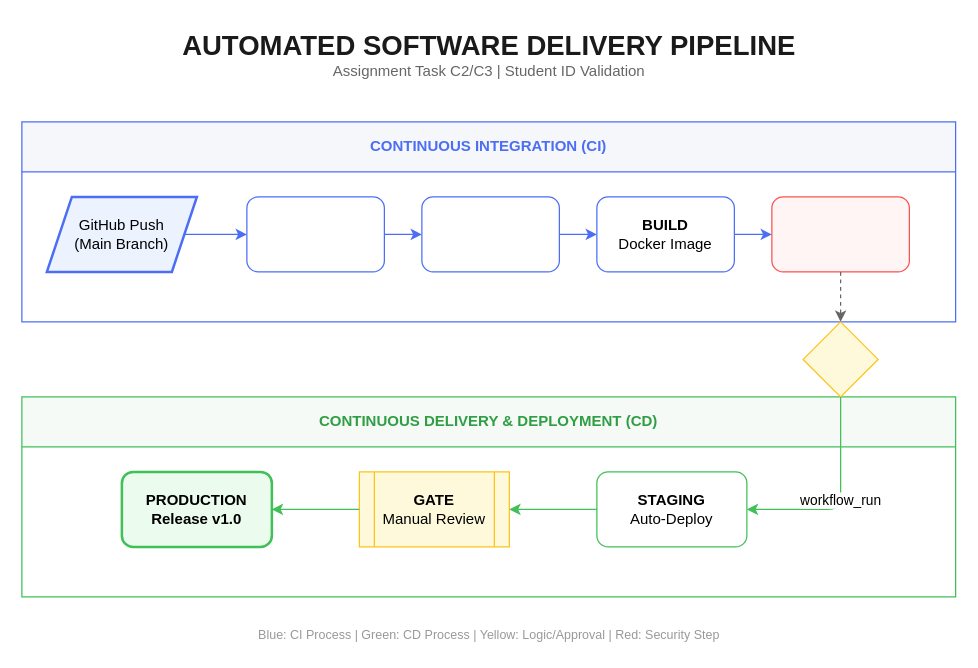
Image size: 978x668. Some labels were removed from this diagram. The centre of each missing label's shape, as x and y in pixels:
"LINT Python Syntax" belongs at (315,234).
"PASS?" belongs at (840,359).
"SEC SCAN Trivy Utility" belongs at (840,234).
"TEST Pytest + MySQL" belongs at (490,234).
